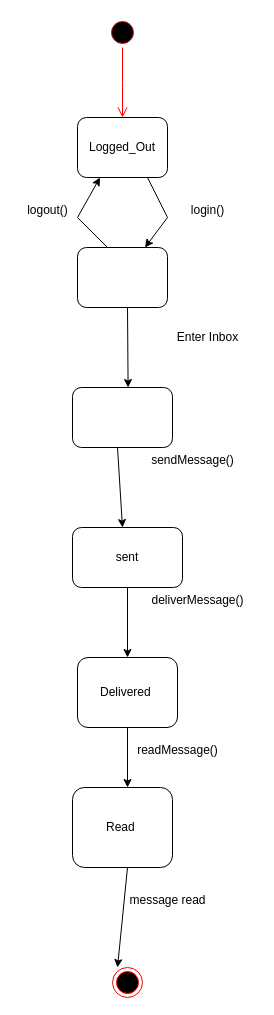
This 274x1015 diagram has some shape labels left out. Here are the shapes that lost their labels. From the top down, the centre of each, then its label:
the point at 122,277: Logged_In
the point at 122,417: WriteMessage
